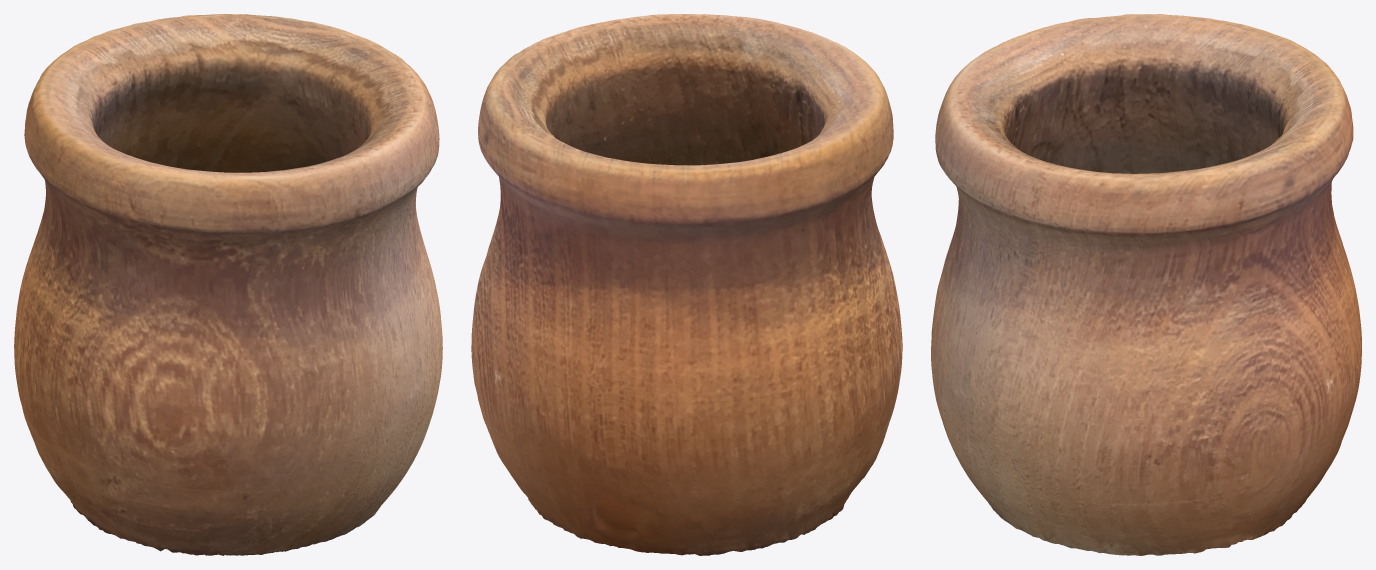
File: mate_dw-4.glb
3 views of the same model, side by side, from view 1: azimuth 30°, elevation 25°; view 2: azimuth 150°, elevation 25°; view 3: azimuth 270°, elevation 25° (orthographic).
Parts seen in each view (by area): view 1: model; view 2: model; view 3: model.
Boxes of the visible parts, x1,y1,x2,y2 form: model: [14, 14, 442, 555]; model: [471, 14, 902, 555]; model: [931, 14, 1361, 555].
Bounding box in the file's own units: 0.0802 × 0.0819 × 0.0803.
Materials: 1 (1 with a texture image).
